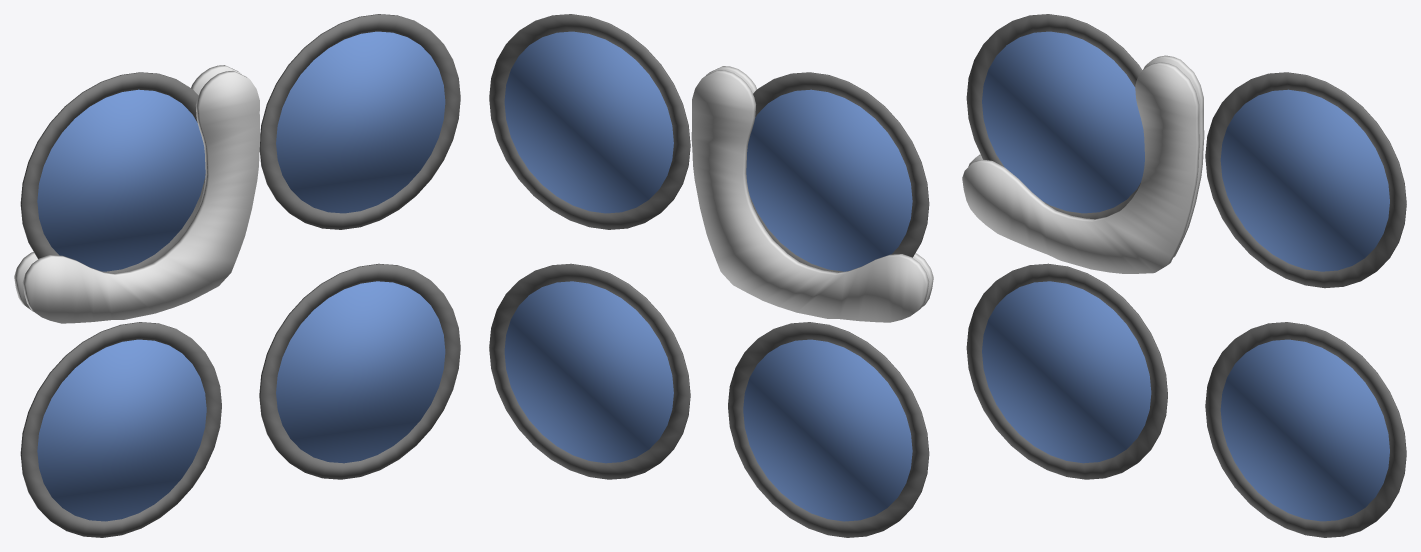
Rendered from Menu.fbx.
3 views of the same model, side by side, from view 1: azimuth 30°, elevation 25°; view 2: azimuth 150°, elevation 25°; view 3: azimuth 330°, elevation 25° (orthographic).
Parts seen in each view (by area): view 1: Apoio.000, Circle, Circle.001; view 2: Apoio.000, Circle.001, Circle; view 3: Apoio.000, Circle, Circle.001.
Boxes of the visible parts, x1,y1,x2,y2 form: Apoio.000: (20, 14, 460, 537); Circle: (22, 71, 260, 323); Circle.001: (14, 65, 241, 311); Apoio.000: (489, 14, 929, 537); Circle.001: (691, 70, 929, 322); Circle: (706, 66, 933, 306); Apoio.000: (966, 14, 1406, 537); Circle: (962, 62, 1199, 273); Circle.001: (968, 55, 1204, 257).
Size of the model in its own units: 1850 by 1842 by 74.31.
